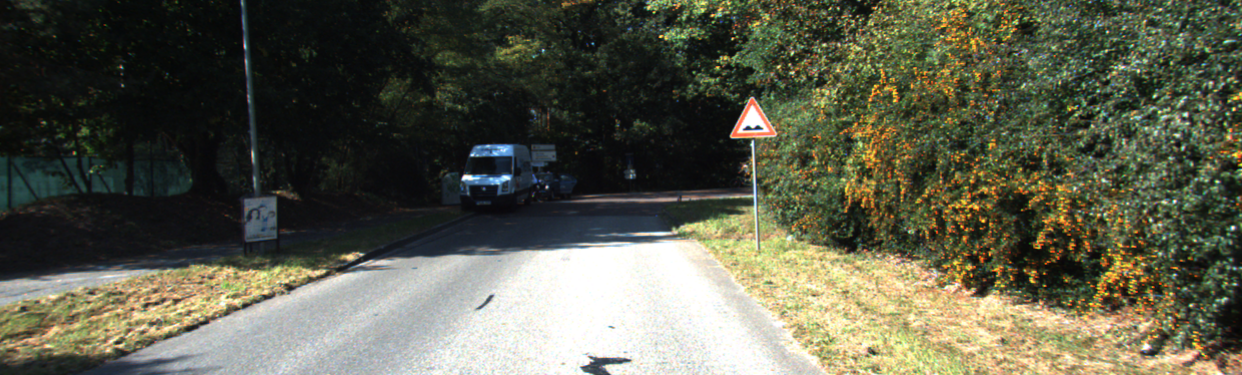car: (510, 175, 566, 204)
